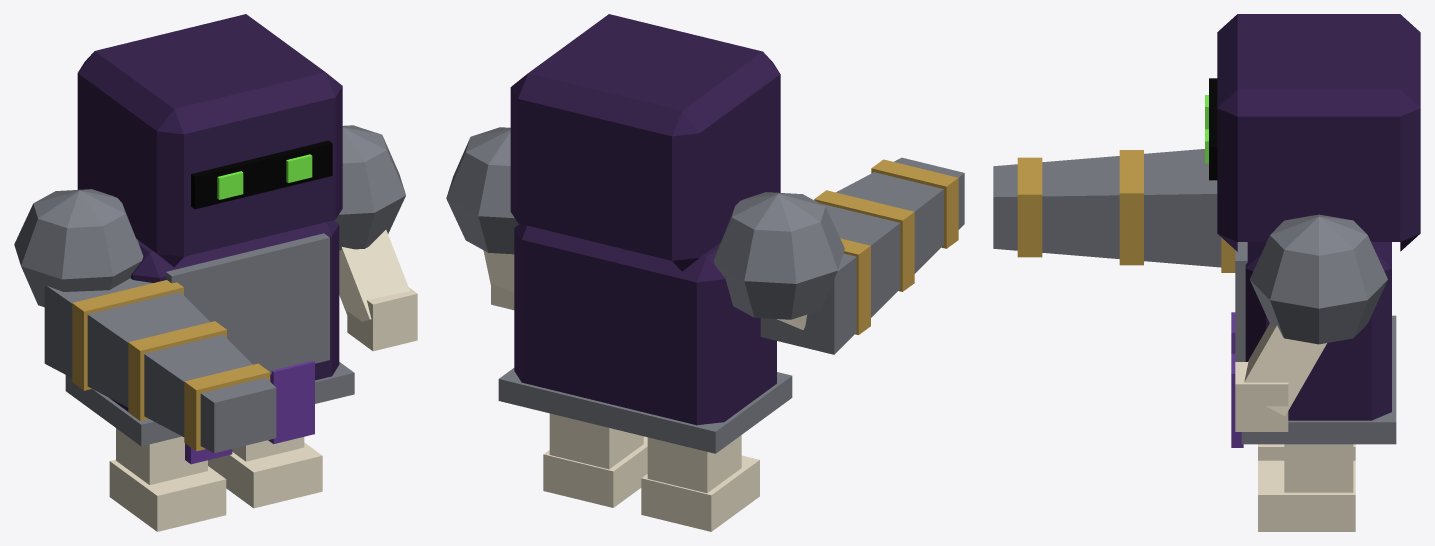
Rendered from breacher_r4.glb.
The picture shows the model from 3 angles, left to right: view 1: azimuth 30°, elevation 25°; view 2: azimuth 150°, elevation 25°; view 3: azimuth 270°, elevation 25°; orthographic projection. The views are drawn at different scales.
Parts seen in each view (by area): view 1: breacher_r4_mesh; view 2: breacher_r4_mesh; view 3: breacher_r4_mesh.
Boxes of the visible parts, x1=… form: breacher_r4_mesh: x1=14, y1=14, x2=417, y2=531; breacher_r4_mesh: x1=446, y1=14, x2=964, y2=531; breacher_r4_mesh: x1=993, y1=14, x2=1420, y2=531.
Size of the model in its own units: 1.85 by 2 by 1.76.
1 material, 1 textured.
